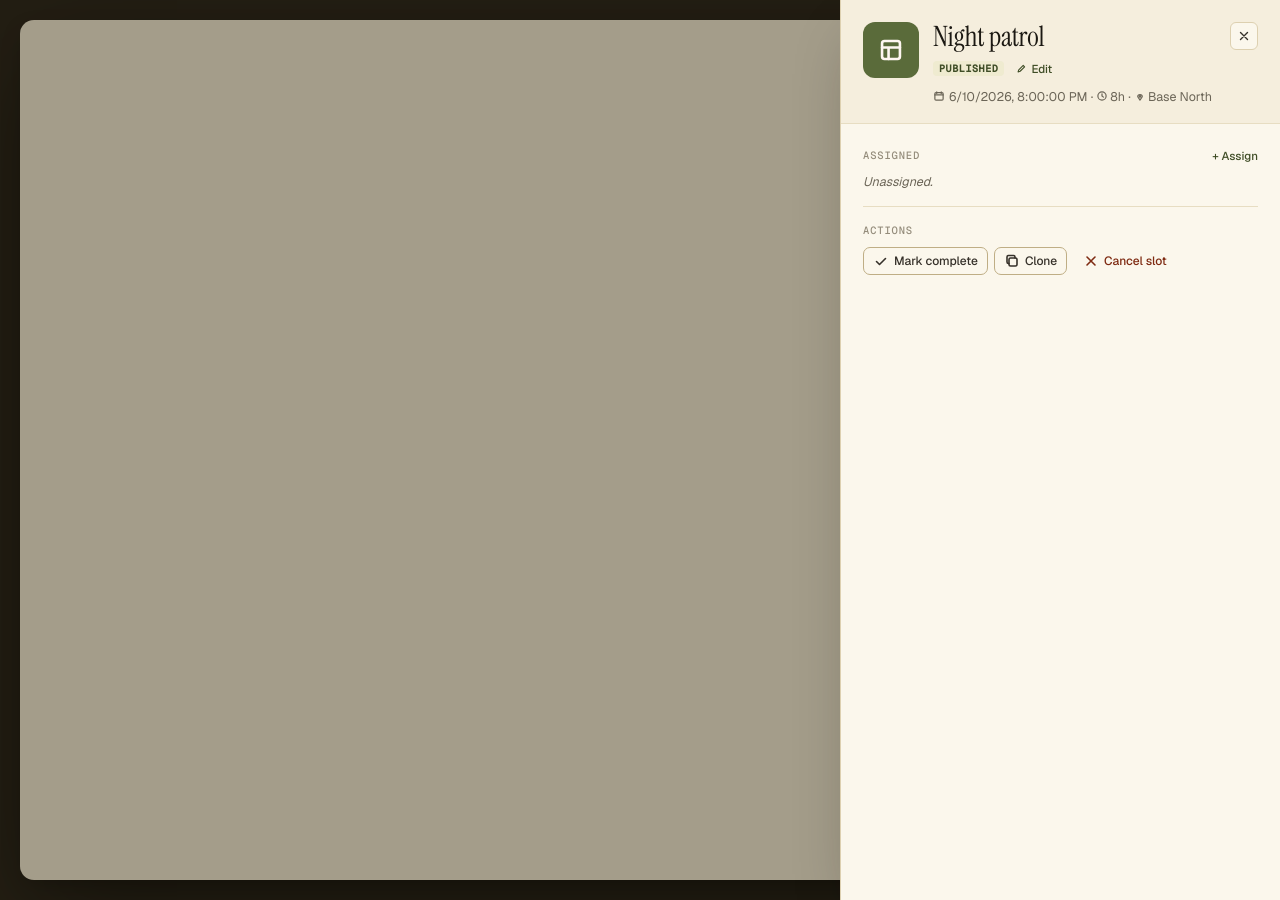
Test: SlotDrawer › shows an Edit button on draft/published slots that opens the edit form
The image size is (1280, 900).
Click the button with aria-label "Edit slot" at {"x": 1034, "y": 68}, box [1012,59,1056,78]
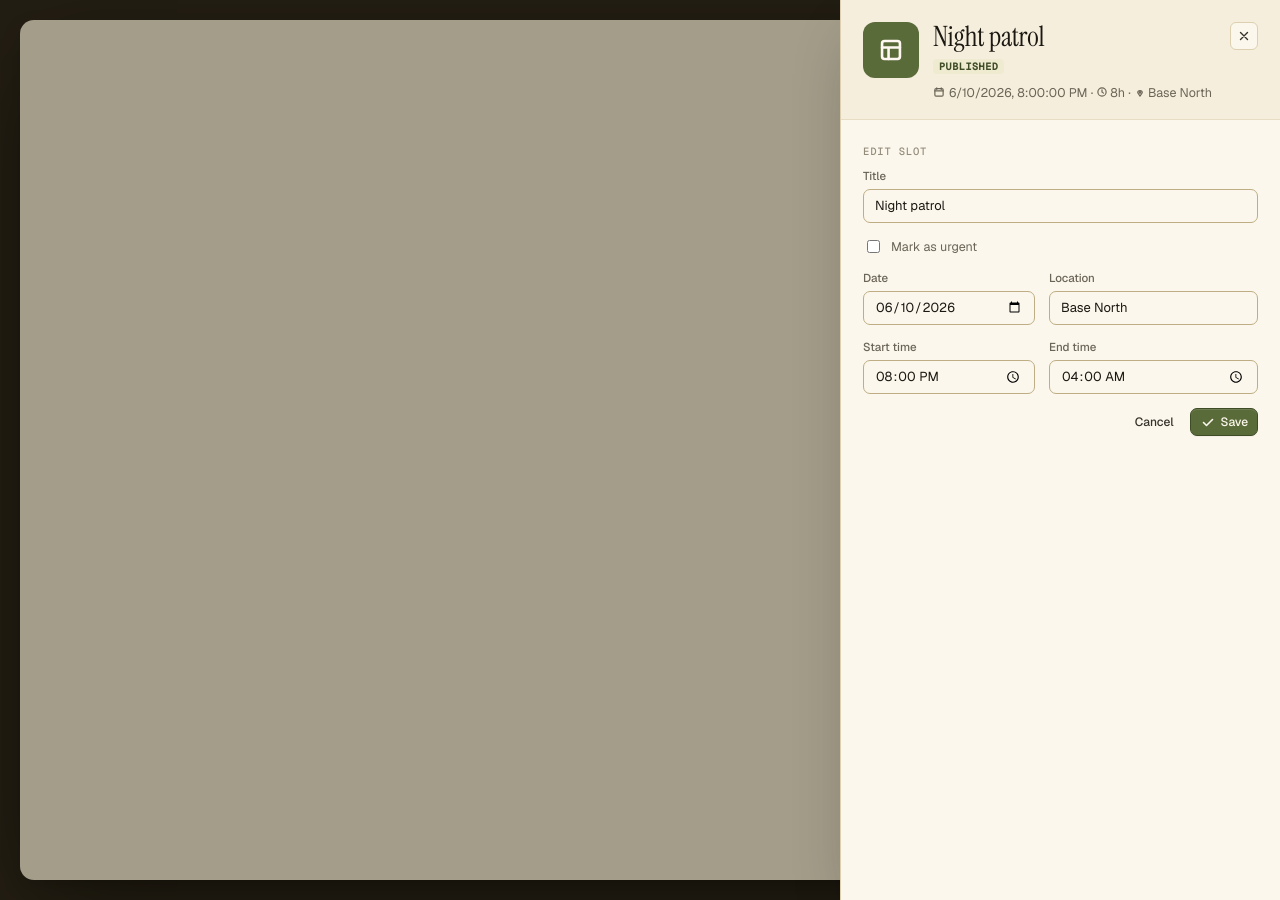
Result: the heading "Edit slot" is shown at [863,144,927,158]
Result: the button "Save" is shown at [1190,408,1258,436]
Result: the button "Mark complete" is gone
